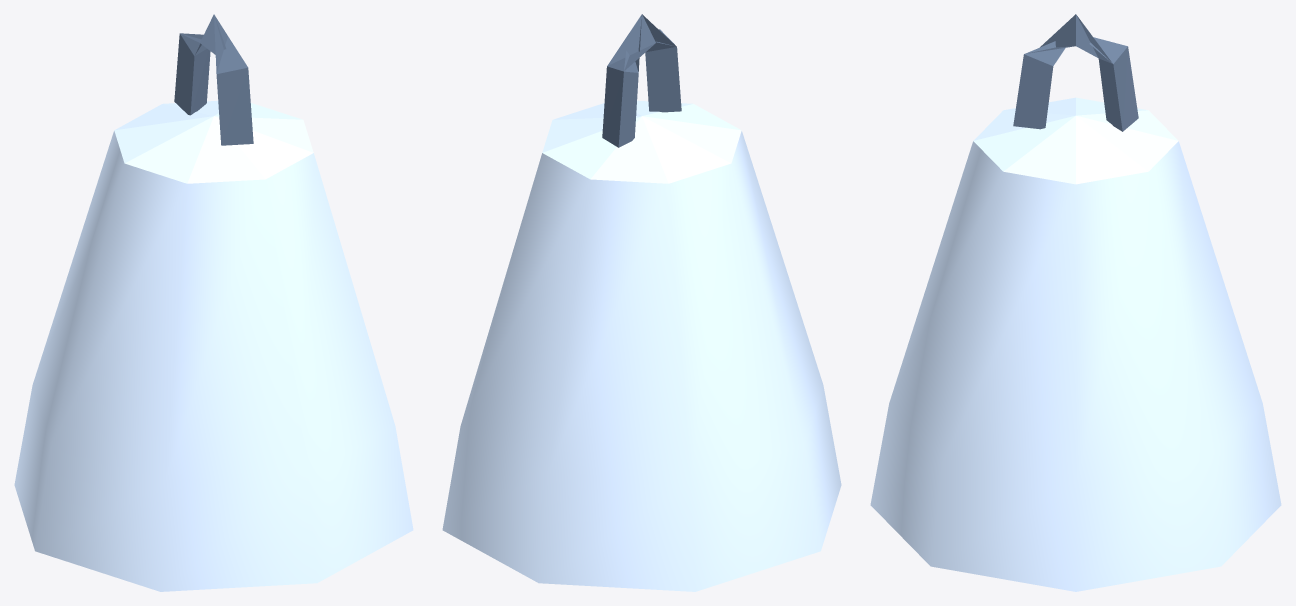
File: iron-bell-small.glb
3 renders of one model, left to right at view 1: azimuth 30°, elevation 25°; view 2: azimuth 150°, elevation 25°; view 3: azimuth 270°, elevation 25°, orthographic.
Visible parts, largest first — view 1: iron-bell-small; view 2: iron-bell-small; view 3: iron-bell-small.
Boxes of the visible parts, <box> form: iron-bell-small: <box>14,14,413,591</box>; iron-bell-small: <box>442,14,841,591</box>; iron-bell-small: <box>870,14,1281,591</box>.
Bounding box in the file's own units: 0.44 × 0.58 × 0.44.
